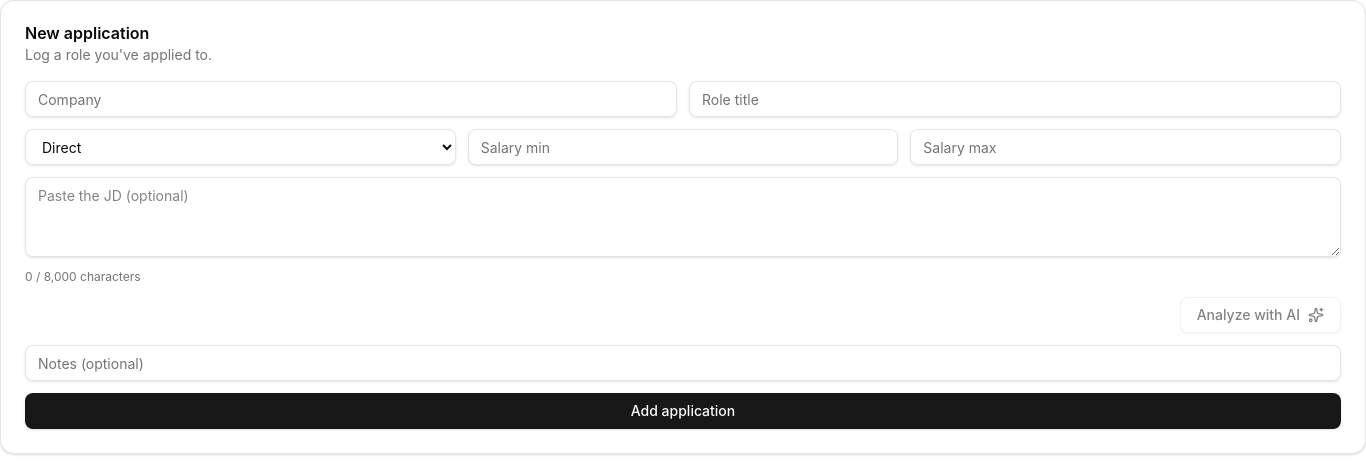
Scenario: ApplicationForm › Analyze with AI › keeps the user's typed company when the AI result has no company (e.g. an unnamed recruiter posting)
Type "Acme Co" into the field with placeholder "Company" at (351, 99), box 25,81 -> 677,117
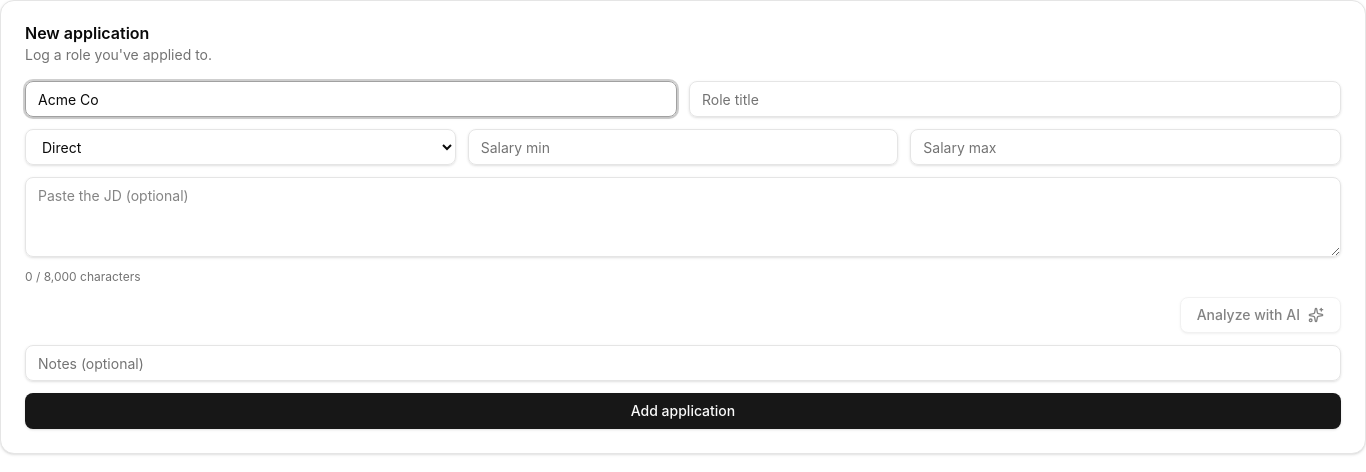
Type "Some JD text" into the text box with placeholder "Paste the JD (optional)" at (683, 217), box 25,177 -> 1341,257
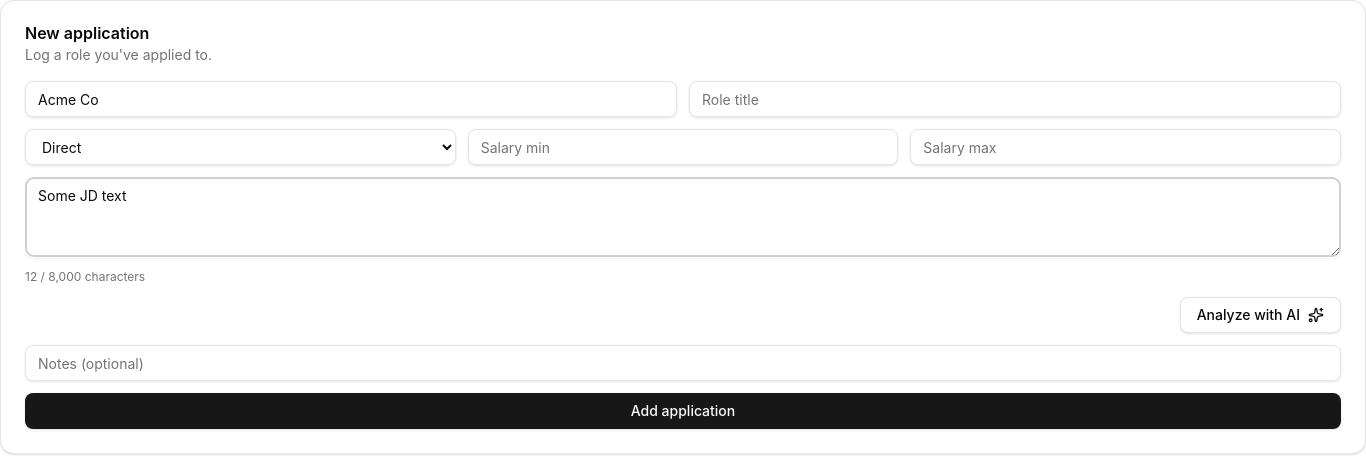
Click the button "Analyze with AI" at (1260, 315), box 1180,297 -> 1341,333
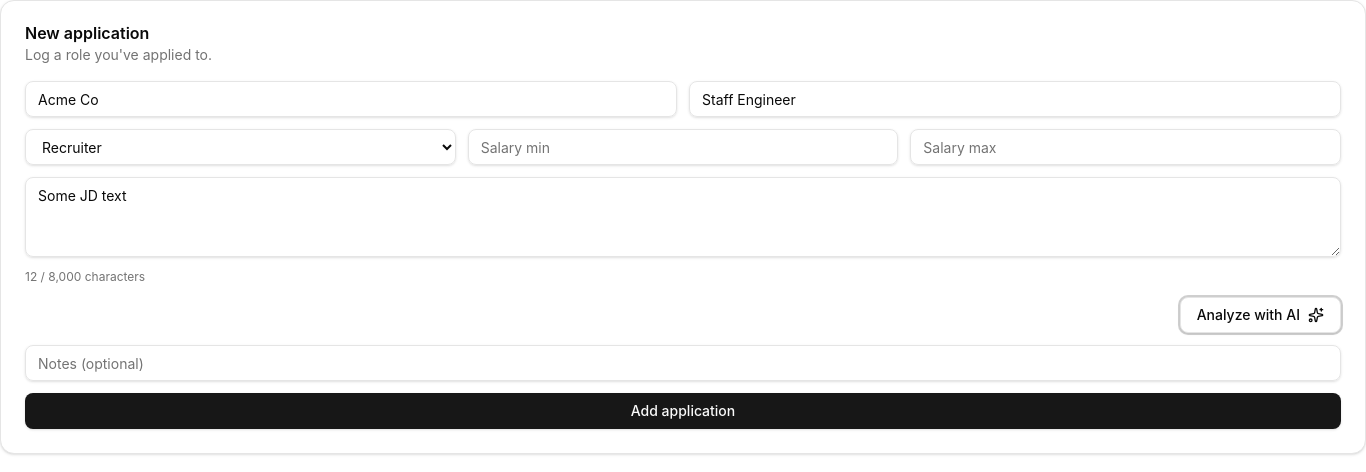
expect the 2nd field with placeholder "Role title" holds "Staff Engineer": met, box 689,81 -> 1341,117
